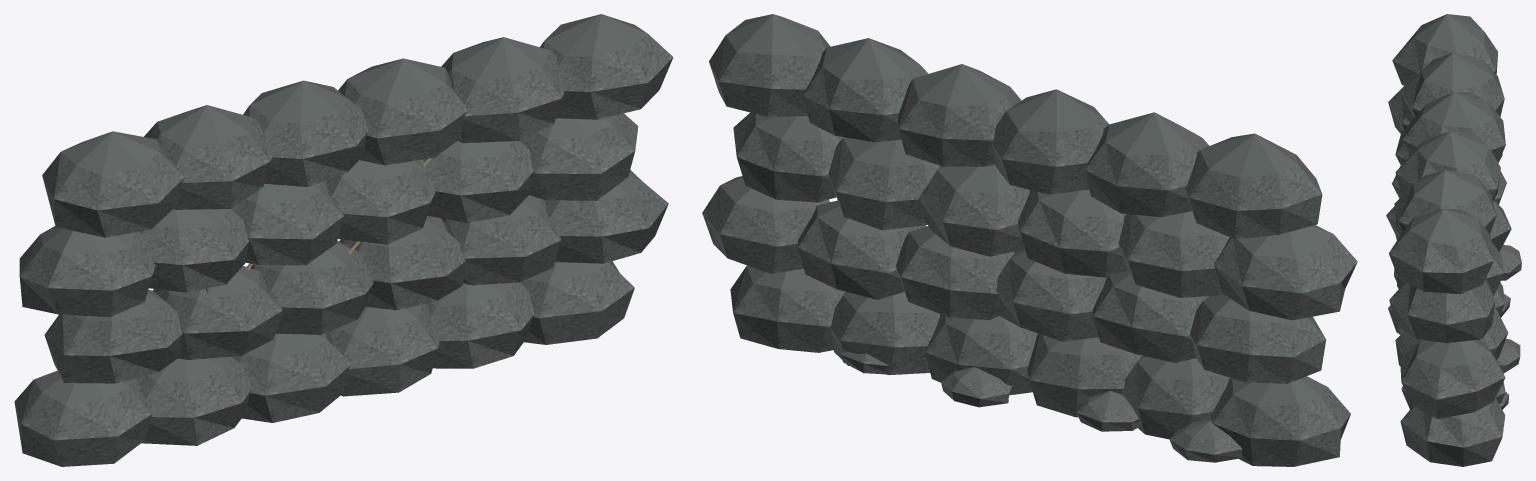
File: en-014_cave_wall_module__straight.obj
The picture shows the model from 3 angles, left to right: view 1: azimuth 30°, elevation 25°; view 2: azimuth 150°, elevation 25°; view 3: azimuth 270°, elevation 25°; orthographic projection. The views are drawn at different scales.
Parts seen in each view (by area): view 1: en-014_cave_wall_module__straight; view 2: en-014_cave_wall_module__straight; view 3: en-014_cave_wall_module__straight.
Part boxes in pixels (left/top/right/bottom): en-014_cave_wall_module__straight: left=14, top=14, right=673, bottom=466; en-014_cave_wall_module__straight: left=702, top=14, right=1357, bottom=466; en-014_cave_wall_module__straight: left=1386, top=14, right=1521, bottom=466.
Size of the model in its own units: 3.86 by 1.77 by 0.8646.
Materials: 4 (4 with a texture image).
